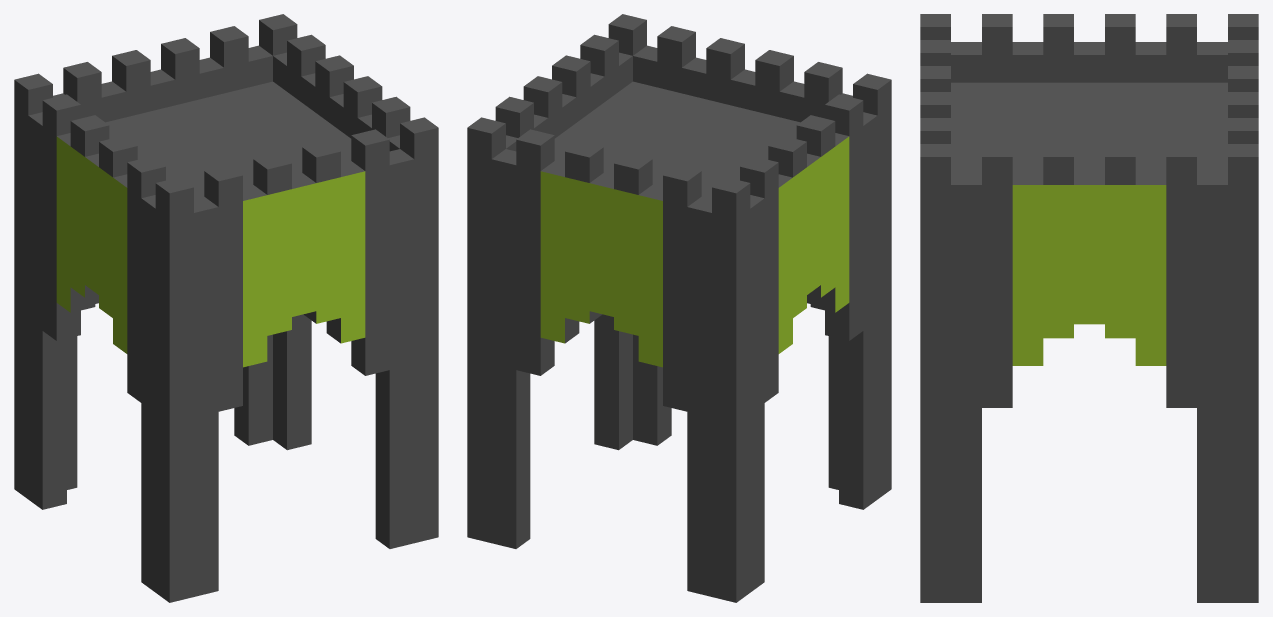
Rendered from edamame_banner_tower.glb.
The picture shows the model from 3 angles, left to right: view 1: azimuth 30°, elevation 25°; view 2: azimuth 150°, elevation 25°; view 3: azimuth 270°, elevation 25°; orthographic projection. The views are drawn at different scales.
Parts seen in each view (by area): view 1: Front(AndBack)Wall, Right(AndLeft)Wall, Pillar, Plane; view 2: Front(AndBack)Wall, Right(AndLeft)Wall, Pillar, Plane; view 3: Right(AndLeft)Wall, Pillar, Plane, Front(AndBack)Wall.
Boxes of the visible parts, box(x1,y1,x2,y2) form: Front(AndBack)Wall: box(53, 26, 414, 596); Right(AndLeft)Wall: box(28, 34, 410, 592); Pillar: box(14, 14, 438, 602); Plane: box(105, 81, 351, 198); Front(AndBack)Wall: box(491, 26, 852, 596); Right(AndLeft)Wall: box(495, 34, 877, 592); Pillar: box(467, 14, 891, 602); Plane: box(554, 81, 800, 198); Right(AndLeft)Wall: box(951, 14, 1227, 602); Pillar: box(920, 14, 1258, 602); Plane: box(951, 82, 1227, 171); Front(AndBack)Wall: box(920, 40, 1258, 143).
Bounding box in the file's own units: 22 × 32 × 22.
